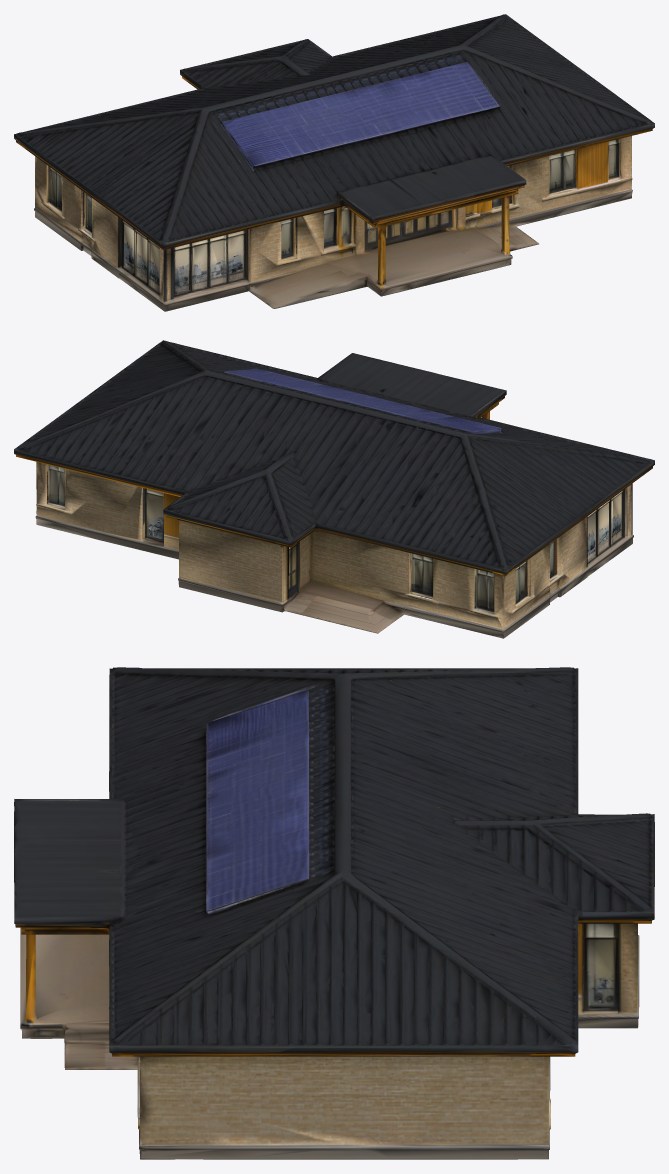
Rendered from health-wellness.glb.
3 renders of one model, top to bottom at view 1: azimuth 30°, elevation 25°; view 2: azimuth 150°, elevation 25°; view 3: azimuth 270°, elevation 25°, orthographic. The views are drawn at different scales.
Parts seen in each view (by area): view 1: node_0; view 2: node_0; view 3: node_0.
Boxes of the visible parts, bbox=[...] form: node_0: bbox=[14, 14, 654, 311]; node_0: bbox=[14, 340, 654, 638]; node_0: bbox=[14, 667, 654, 1159].
Bounding box in the file's own units: 1.05 × 0.2712 × 0.7559.
1 material, 1 textured.
